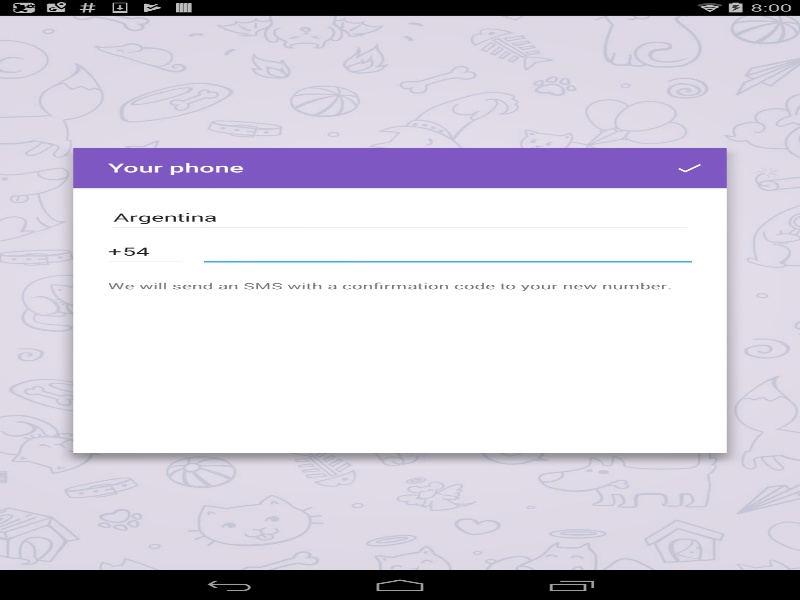Input: (204, 240, 692, 262), (109, 240, 182, 262)
